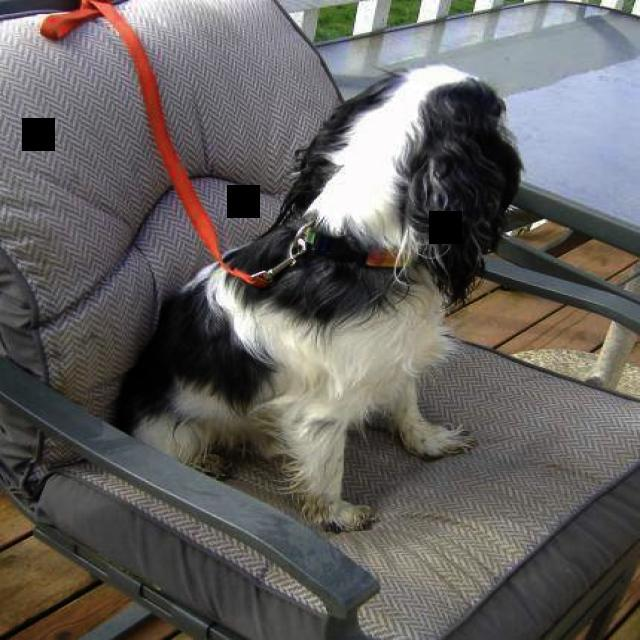adult_dog: (116, 59, 525, 534)
